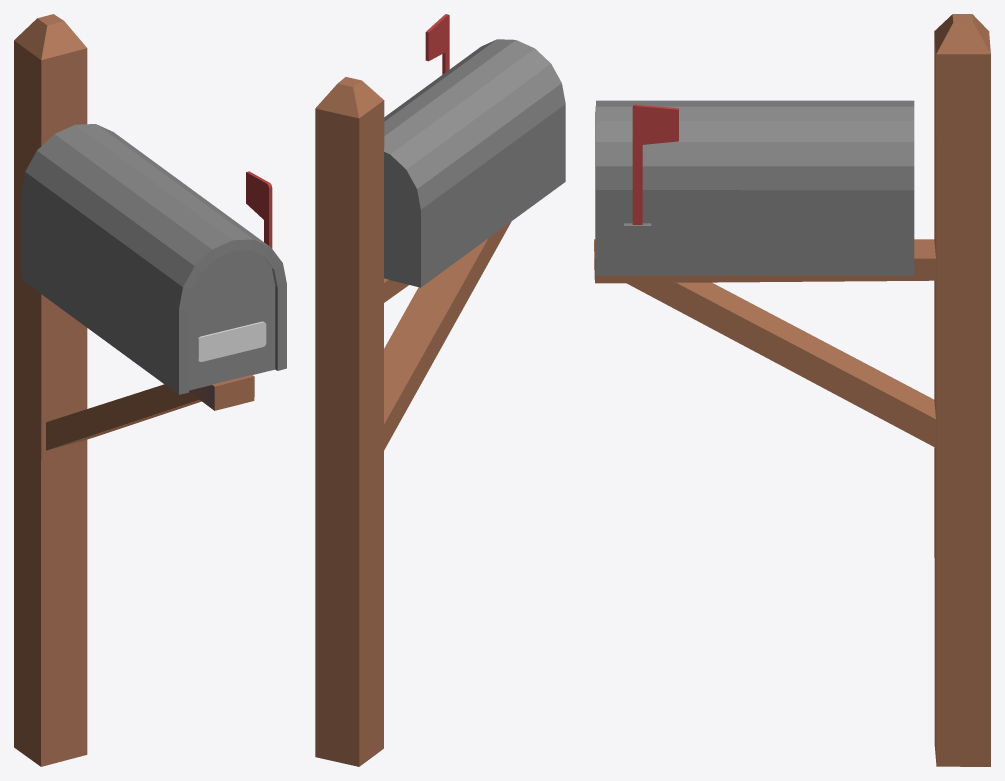
Rendered from mailbox.glb.
3 renders of one model, left to right at view 1: azimuth 30°, elevation 25°; view 2: azimuth 150°, elevation 25°; view 3: azimuth 270°, elevation 25°, orthographic. The views are drawn at different scales.
Parts seen in each view (by area): view 1: Mailbox; view 2: Mailbox; view 3: Mailbox.
Part boxes in pixels (x1,y1,x2,y2): Mailbox: (14,14,286,766); Mailbox: (315,14,565,766); Mailbox: (594,14,990,766).
Size of the model in its own units: 0.0564 by 0.3479 by 0.1697.
Materials: 1 (1 with a texture image).
